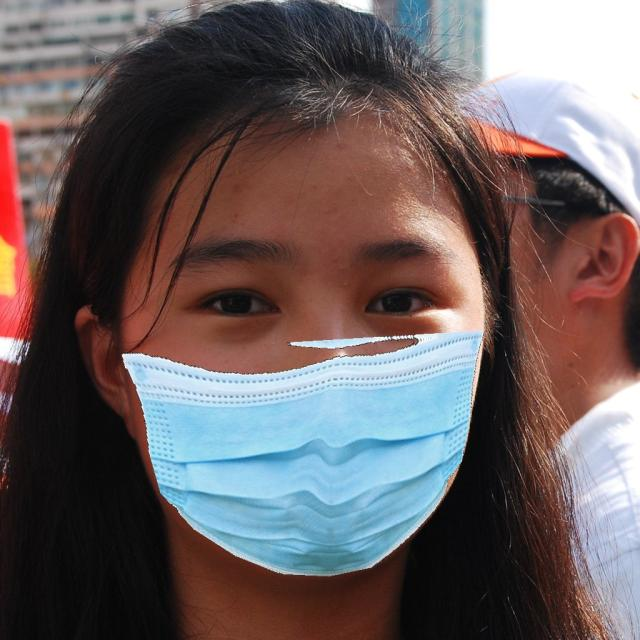1_mascarilla: (120, 349, 477, 576)
